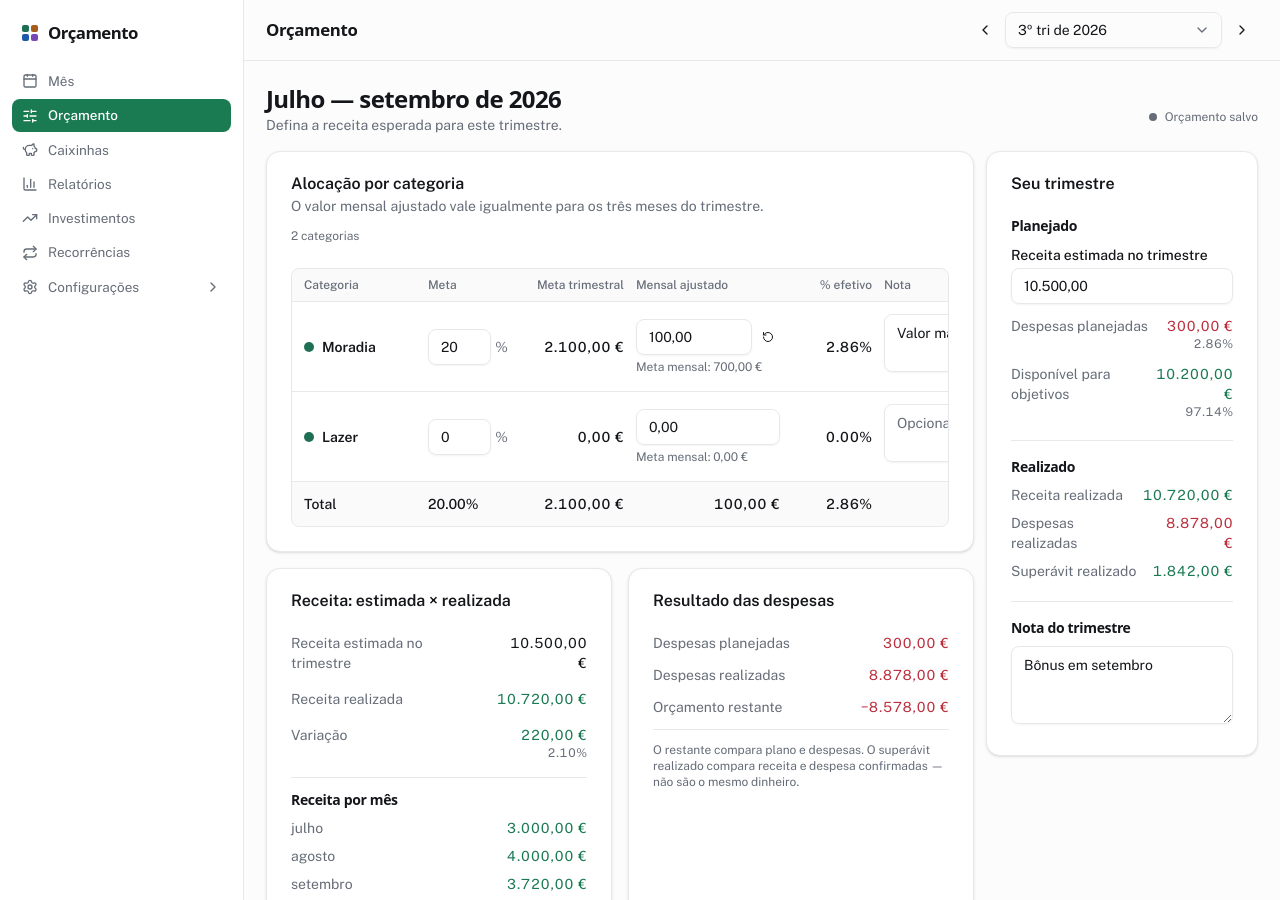
Test: BudgetPage › retains local edits after a failed save and retries on request
Step 1. Replace the text in the text box named "Nota do trimestre" with "Manter esta edição" → coordinates (1122, 685), box [1011,646,1233,724]
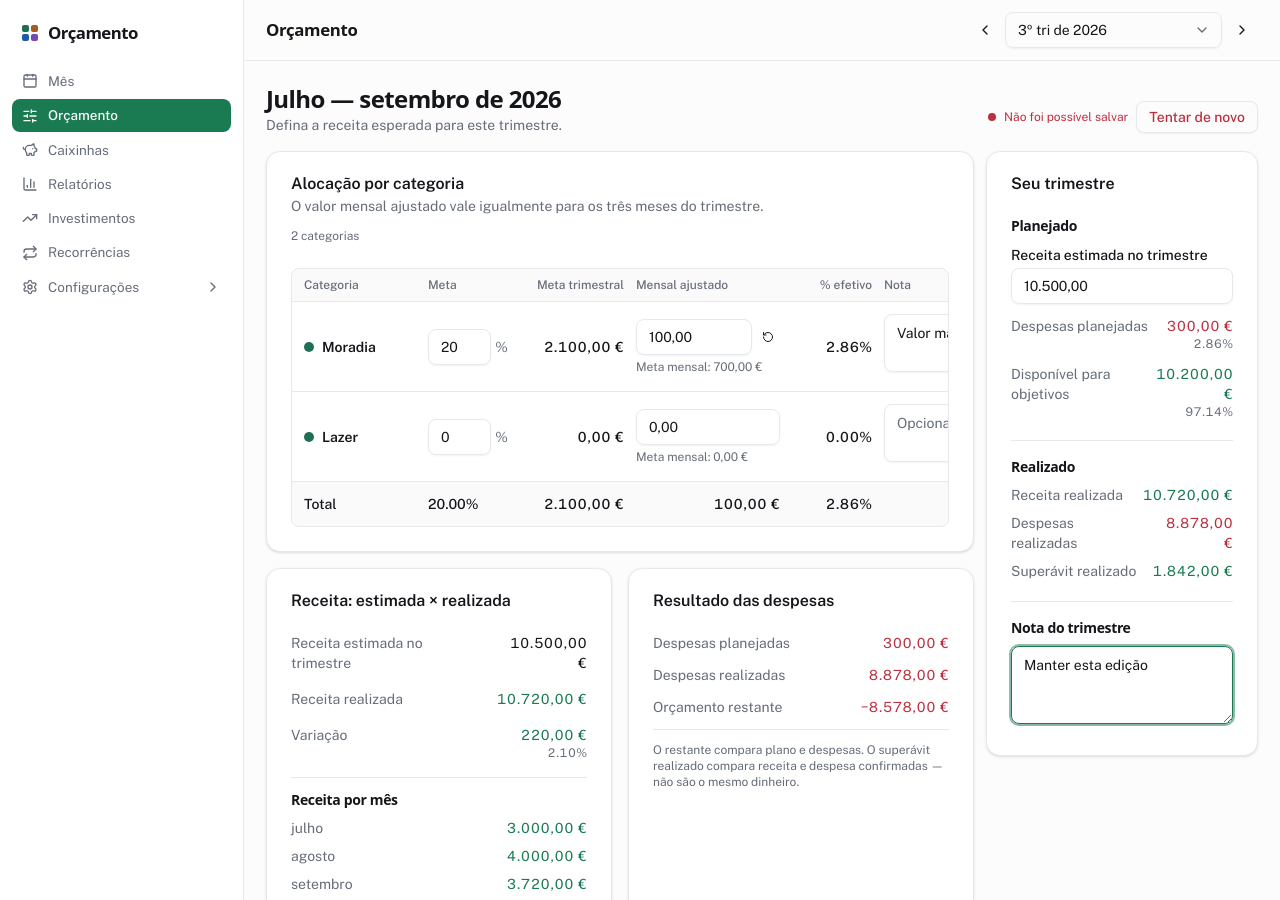
Result: the text "Não foi possível salvar" is shown at [1004,109,1128,125]
Step 2. Click the button "Tentar de novo" → coordinates (1197, 117), box [1136,101,1258,133]
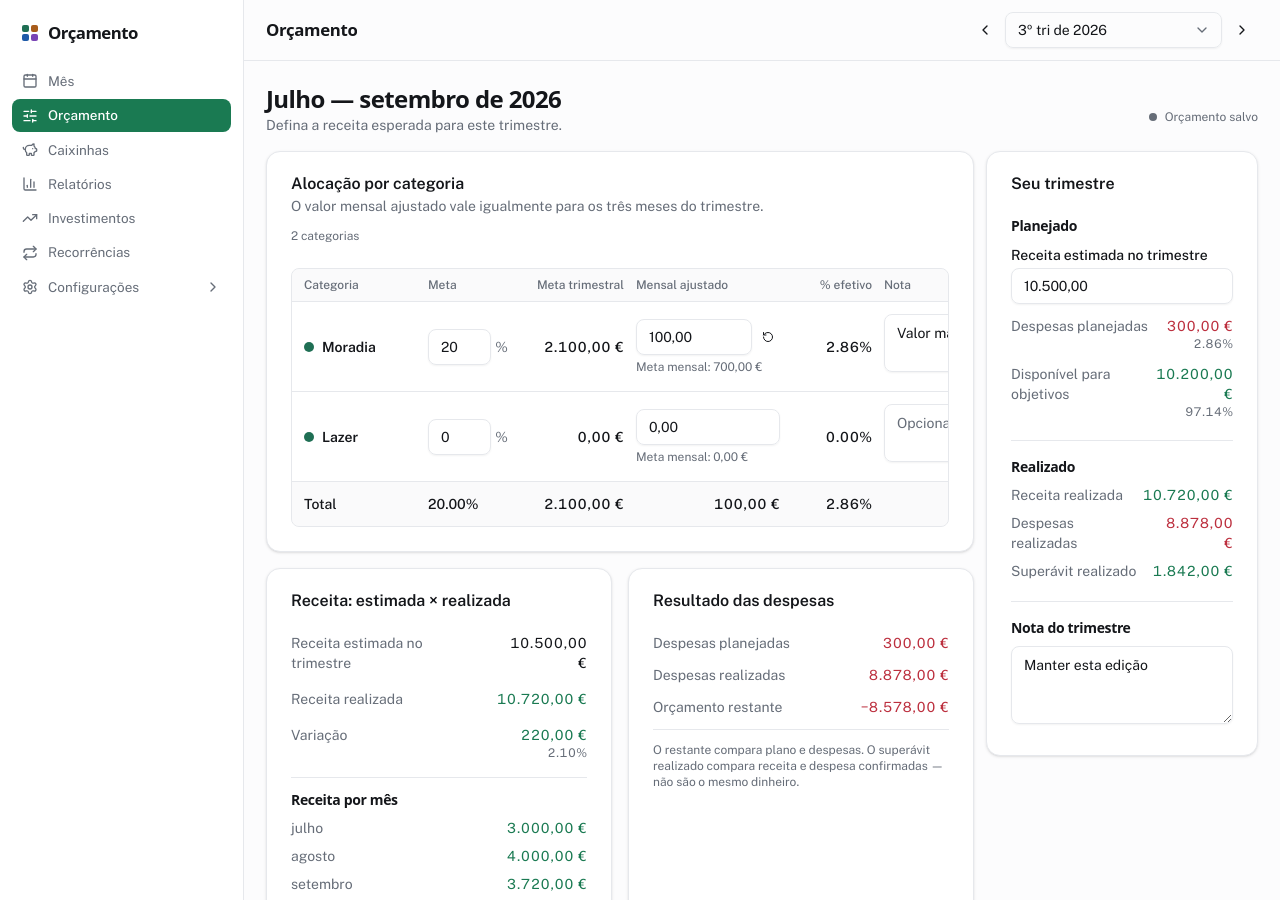
Result: the message reads "Orçamento salvo" at [1165,110,1258,124]
